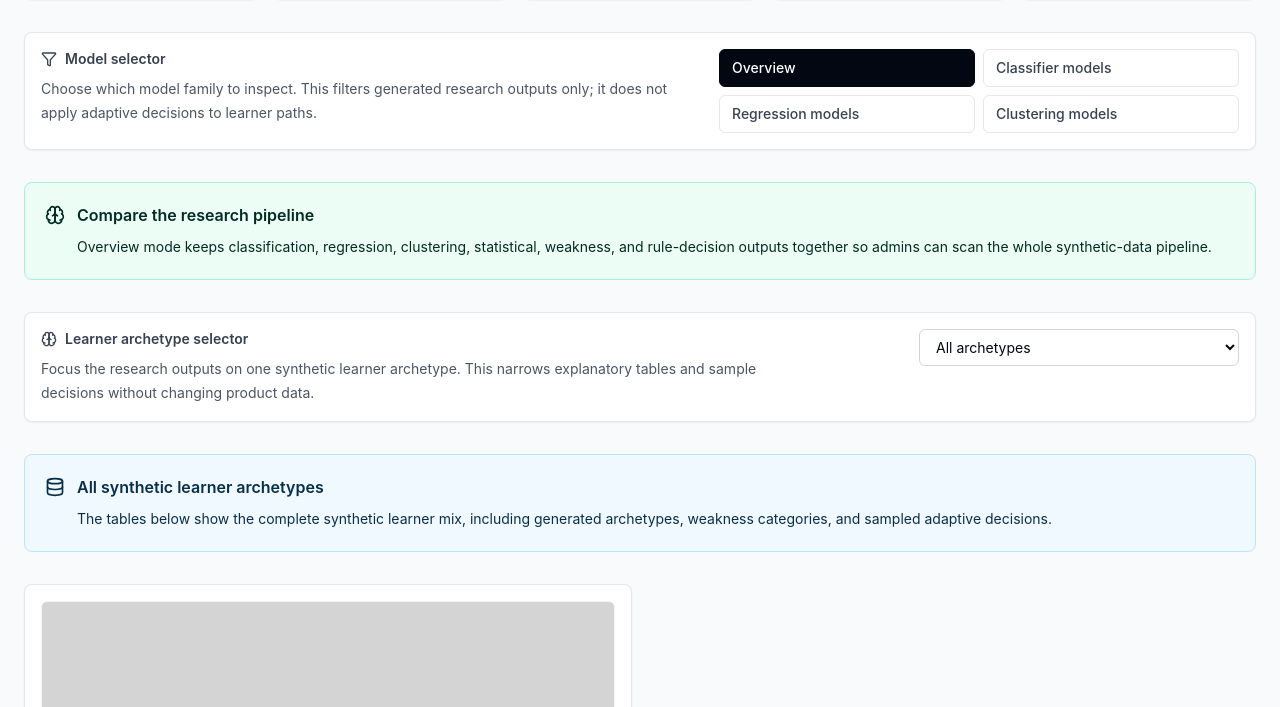
Scenario: focuses sample outputs by selected learner archetype
(page scrolled)
Select "grammar weak (16)" in the dropdown named "Learner archetype selector" at (1079, 348), box [919,329,1239,366]
(page scrolled)
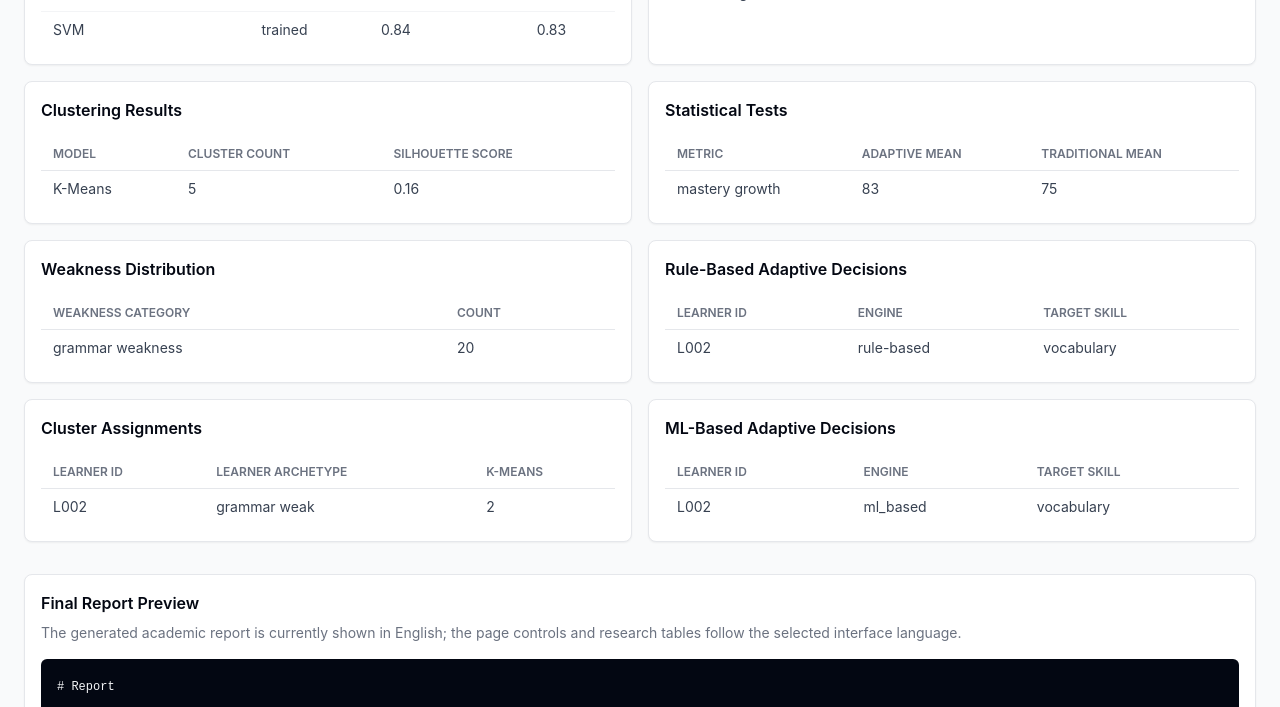
Result: the heading "Cluster Assignments" is shown at [41,418,202,438]
Result: the heading "ML-Based Adaptive Decisions" is shown at [665,418,896,438]
Result: the text "L002" below "Rule-Based Adaptive Decisions" is shown at [677,339,711,356]
